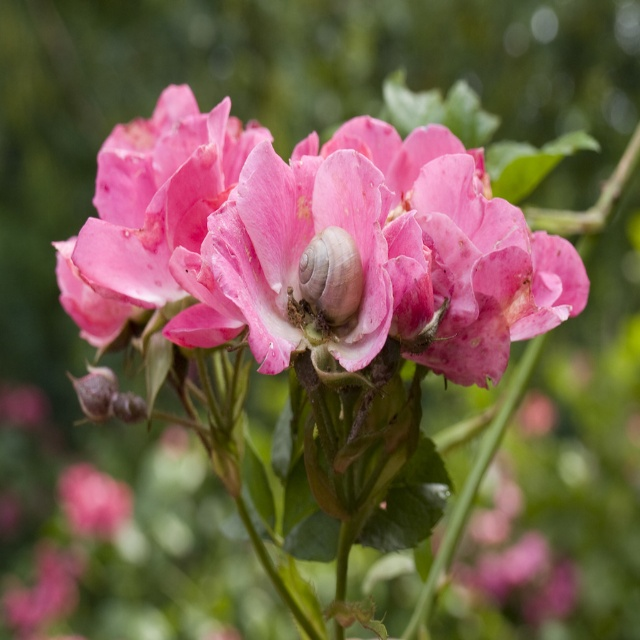Snail: (301, 223, 360, 330)
